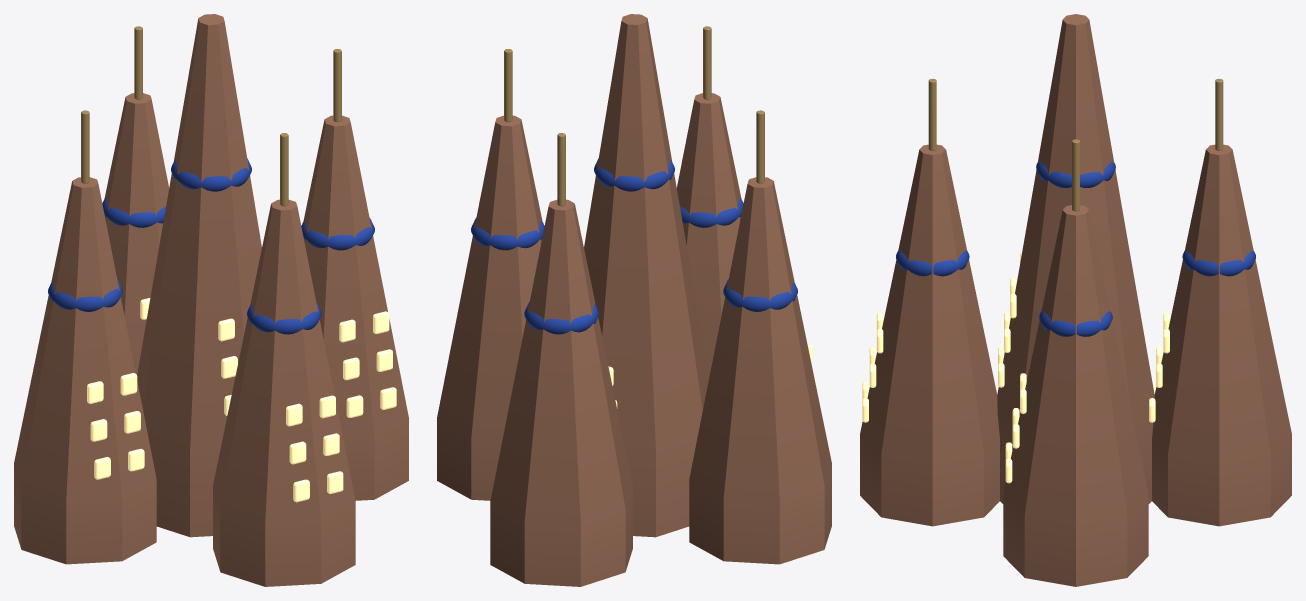
3 views of the same model, side by side, from view 1: azimuth 30°, elevation 25°; view 2: azimuth 150°, elevation 25°; view 3: azimuth 270°, elevation 25° (orthographic).
Parts seen in each view (by area): view 1: Tapered spire.004, Tapered spire.002, Tapered spire.001, Tapered spire.003, Tapered spire, Spire collar.004, Spire collar.001, Spire collar.002, Spire collar.003, Spire collar, Aerial stem.001, Aerial stem.002 (+2 smaller); view 2: Tapered spire.004, Tapered spire.001, Tapered spire, Tapered spire.003, Tapered spire.002, Spire collar.004, Spire collar.001, Spire collar, Spire collar.003, Spire collar.002, Aerial stem, Aerial stem.001 (+2 smaller); view 3: Tapered spire.003, Tapered spire, Tapered spire.002, Tapered spire.004, Spire collar.003, Spire collar, Spire collar.002, Spire collar.004, Aerial stem, Aerial stem.002, Aerial stem.003.
Boxes of the visible parts, left/top/right/bottom form: Tapered spire.004: left=137, top=14, right=261, bottom=537; Tapered spire.002: left=213, top=199, right=355, bottom=586; Tapered spire.001: left=14, top=177, right=156, bottom=564; Tapered spire.003: left=303, top=115, right=408, bottom=500; Tapered spire: left=104, top=93, right=169, bottom=374; Spire collar.004: left=171, top=158, right=251, bottom=191; Spire collar.001: left=48, top=279, right=122, bottom=311; Spire collar.002: left=247, top=302, right=321, bottom=334; Spire collar.003: left=301, top=218, right=374, bottom=250; Spire collar: left=102, top=197, right=165, bottom=227; Aerial stem.001: left=81, top=110, right=89, bottom=183; Aerial stem.002: left=280, top=133, right=288, bottom=206; Tapered spire.004: left=584, top=14, right=709, bottom=537; Tapered spire.001: left=689, top=177, right=831, bottom=564; Tapered spire: left=490, top=199, right=632, bottom=586; Tapered spire.003: left=437, top=115, right=542, bottom=500; Tapered spire.002: left=676, top=93, right=741, bottom=376; Spire collar.004: left=594, top=158, right=674, bottom=191; Spire collar.001: left=723, top=279, right=797, bottom=311; Spire collar: left=524, top=302, right=598, bottom=334; Spire collar.003: left=471, top=218, right=544, bottom=250; Spire collar.002: left=680, top=197, right=743, bottom=227; Aerial stem: left=557, top=133, right=565, bottom=206; Aerial stem.001: left=756, top=110, right=764, bottom=183; Tapered spire.003: left=1003, top=205, right=1148, bottom=586; Tapered spire: left=1152, top=144, right=1291, bottom=526; Tapered spire.002: left=860, top=144, right=999, bottom=526; Tapered spire.004: left=997, top=14, right=1154, bottom=503; Spire collar.003: left=1039, top=311, right=1112, bottom=336; Spire collar: left=1182, top=250, right=1255, bottom=276; Spire collar.002: left=896, top=250, right=969, bottom=276; Spire collar.004: left=1036, top=161, right=1115, bottom=187; Aerial stem: left=1215, top=78, right=1223, bottom=150; Aerial stem.002: left=928, top=78, right=936, bottom=150; Aerial stem.003: left=1072, top=139, right=1079, bottom=211.
Bounding box in the file's own units: 2.26 × 2.75 × 2.26.
